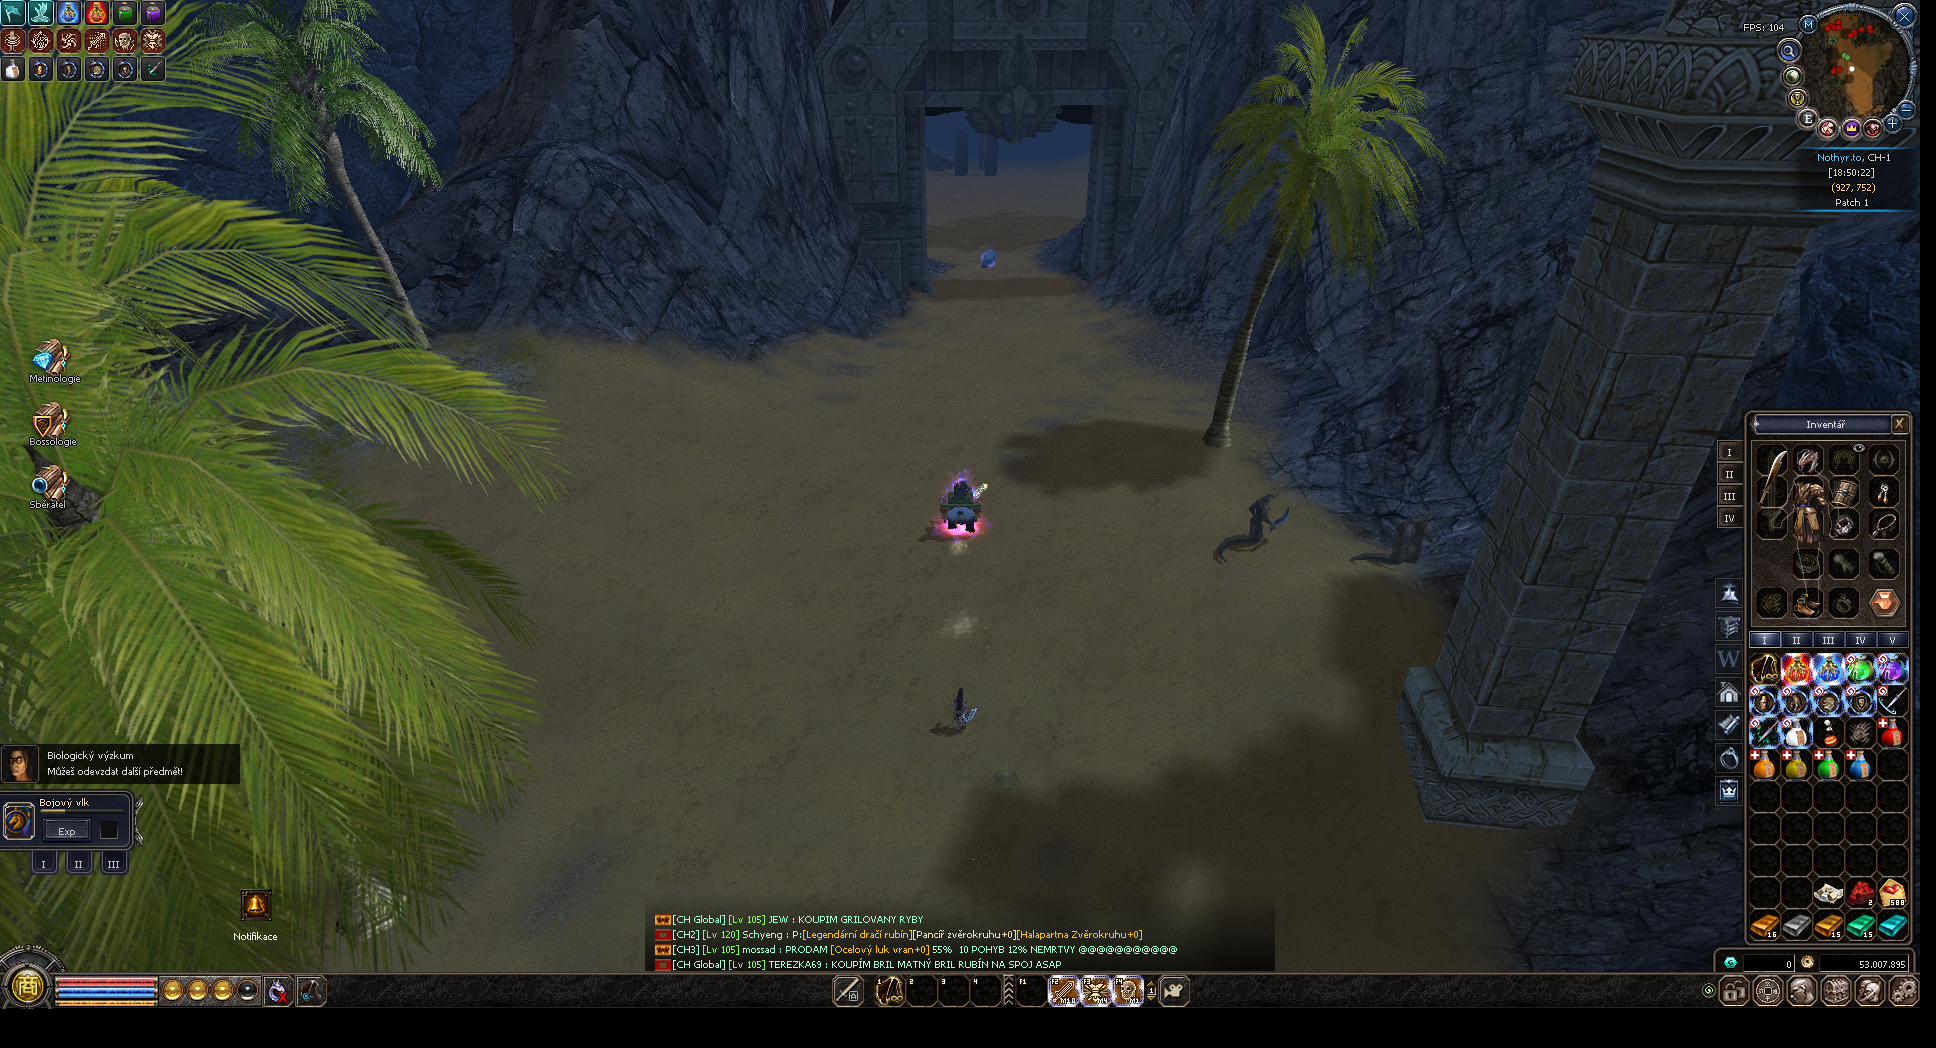Buff: (981, 248, 998, 267)
Enemy: (1212, 492, 1278, 561), (1347, 514, 1421, 565), (1406, 514, 1440, 563)
Me: (943, 478, 989, 533)
Statue: (949, 687, 977, 732)
